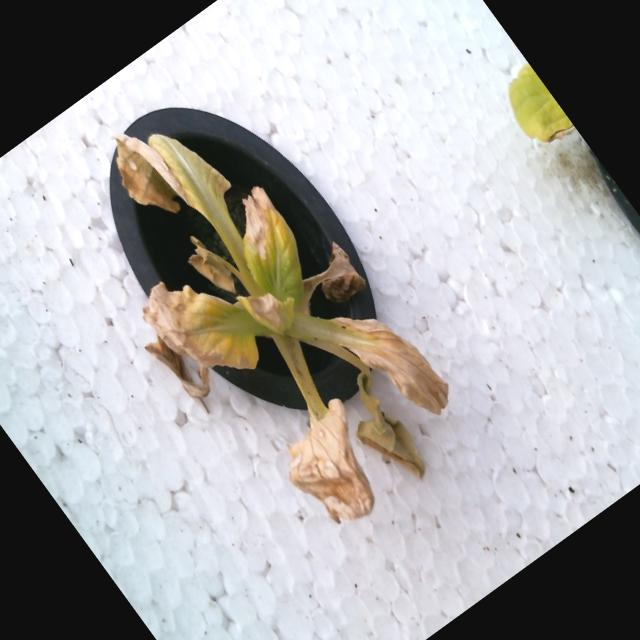pakcoy_tidak_sehat: (11, 33, 520, 588)
